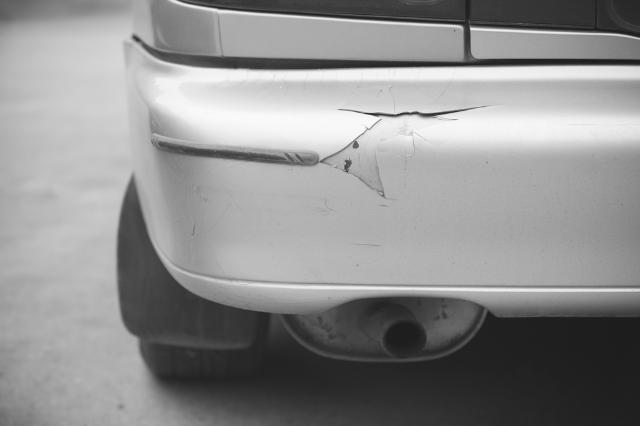Bumper: (134, 49, 640, 332)
